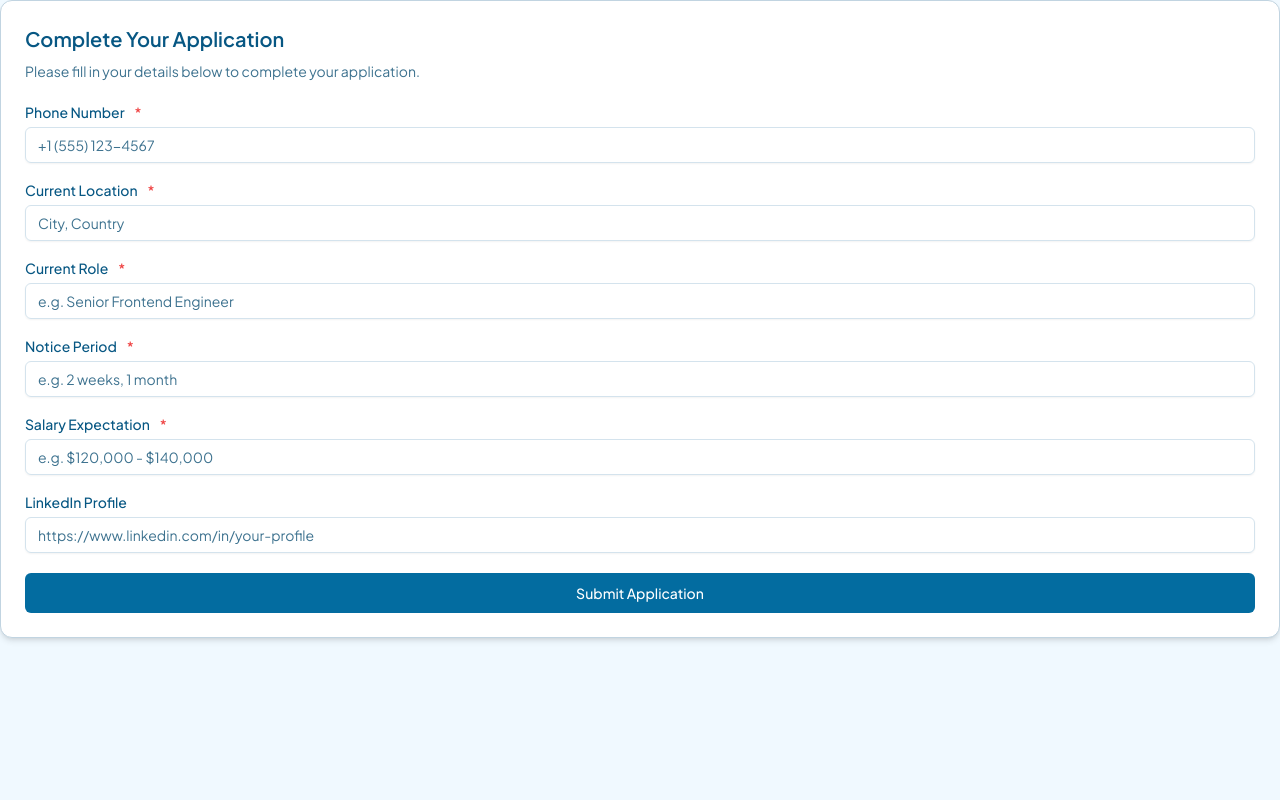
ApplicationForm › validates phone number — rejects too short
This screenshot has width=1280, height=800.
Step 1. Type "123" into the field labelled "Phone Number *" → (640, 145), box x1=25 y1=127 x2=1255 y2=163
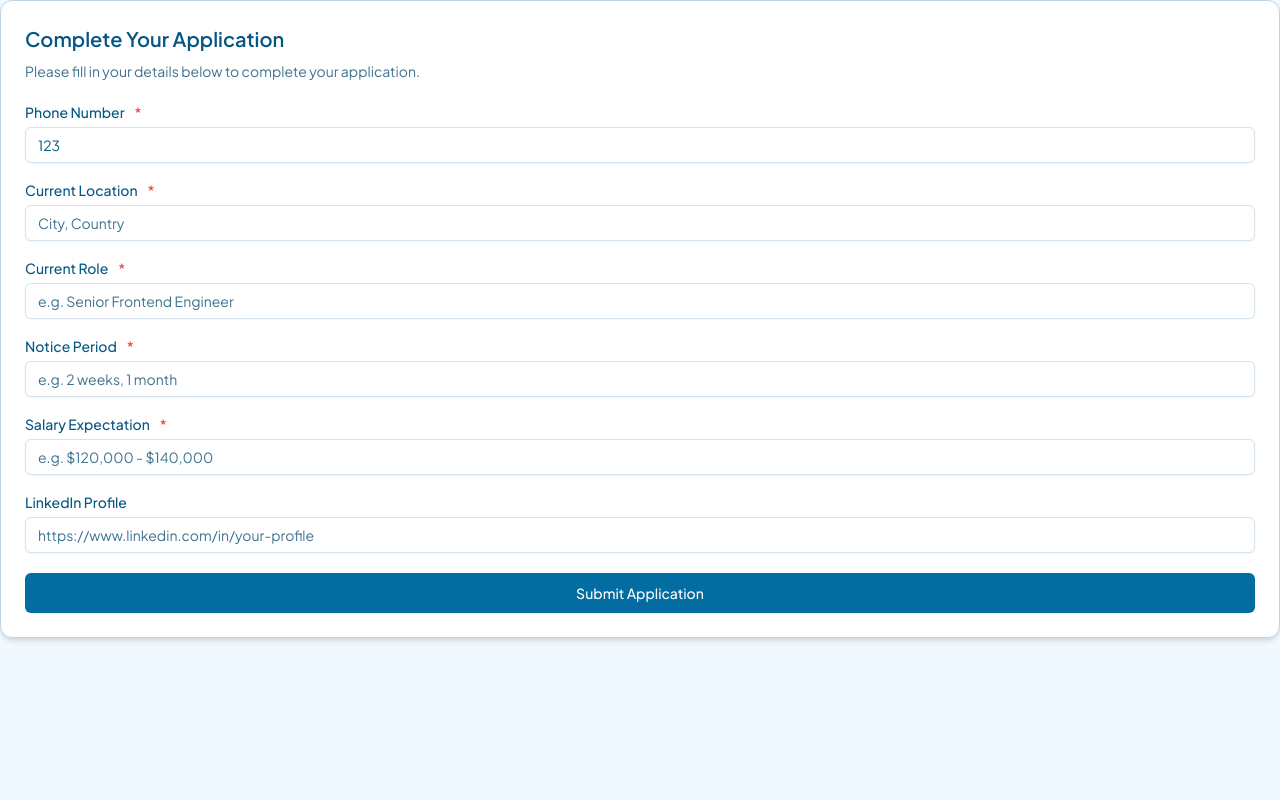
Step 2. Leave the field labelled "Phone Number *", box x1=25 y1=127 x2=1255 y2=163
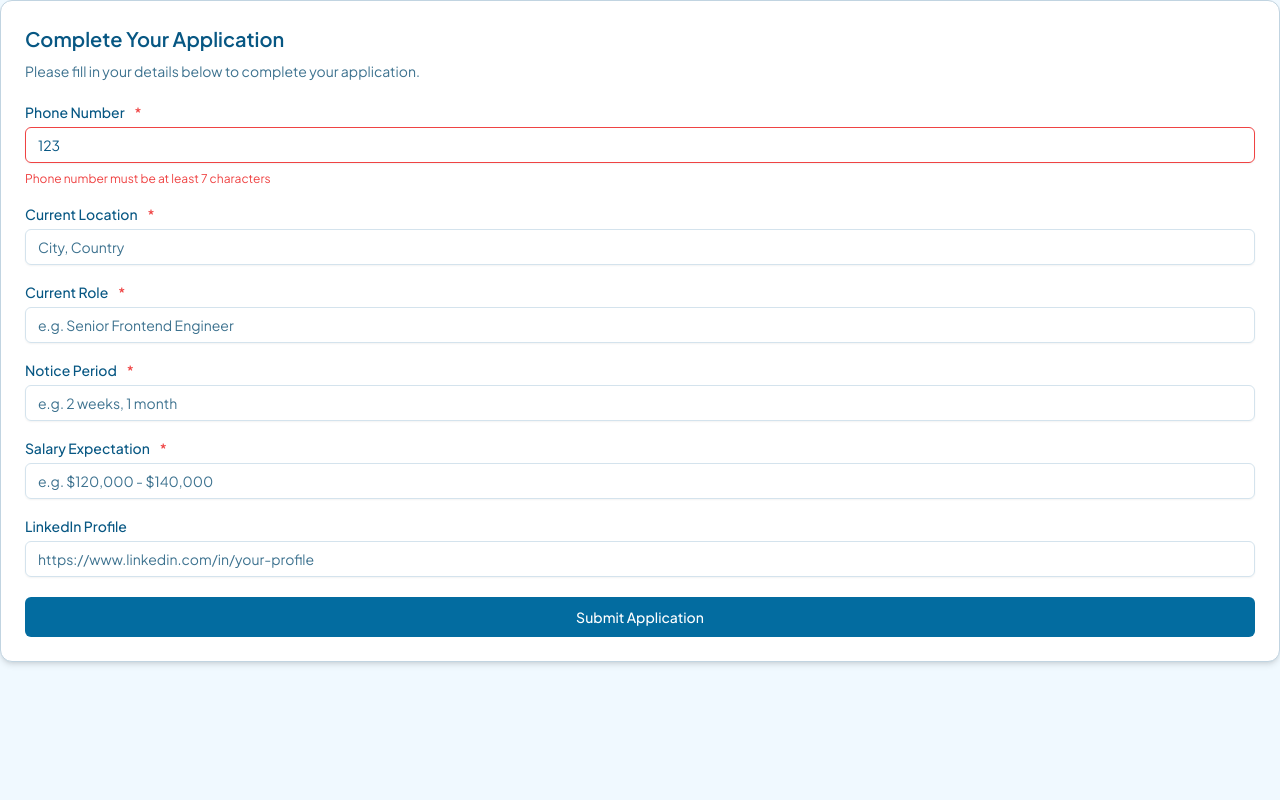
Check: the text "Phone number must be at least 7 characters" is shown, box x1=25 y1=171 x2=271 y2=186
